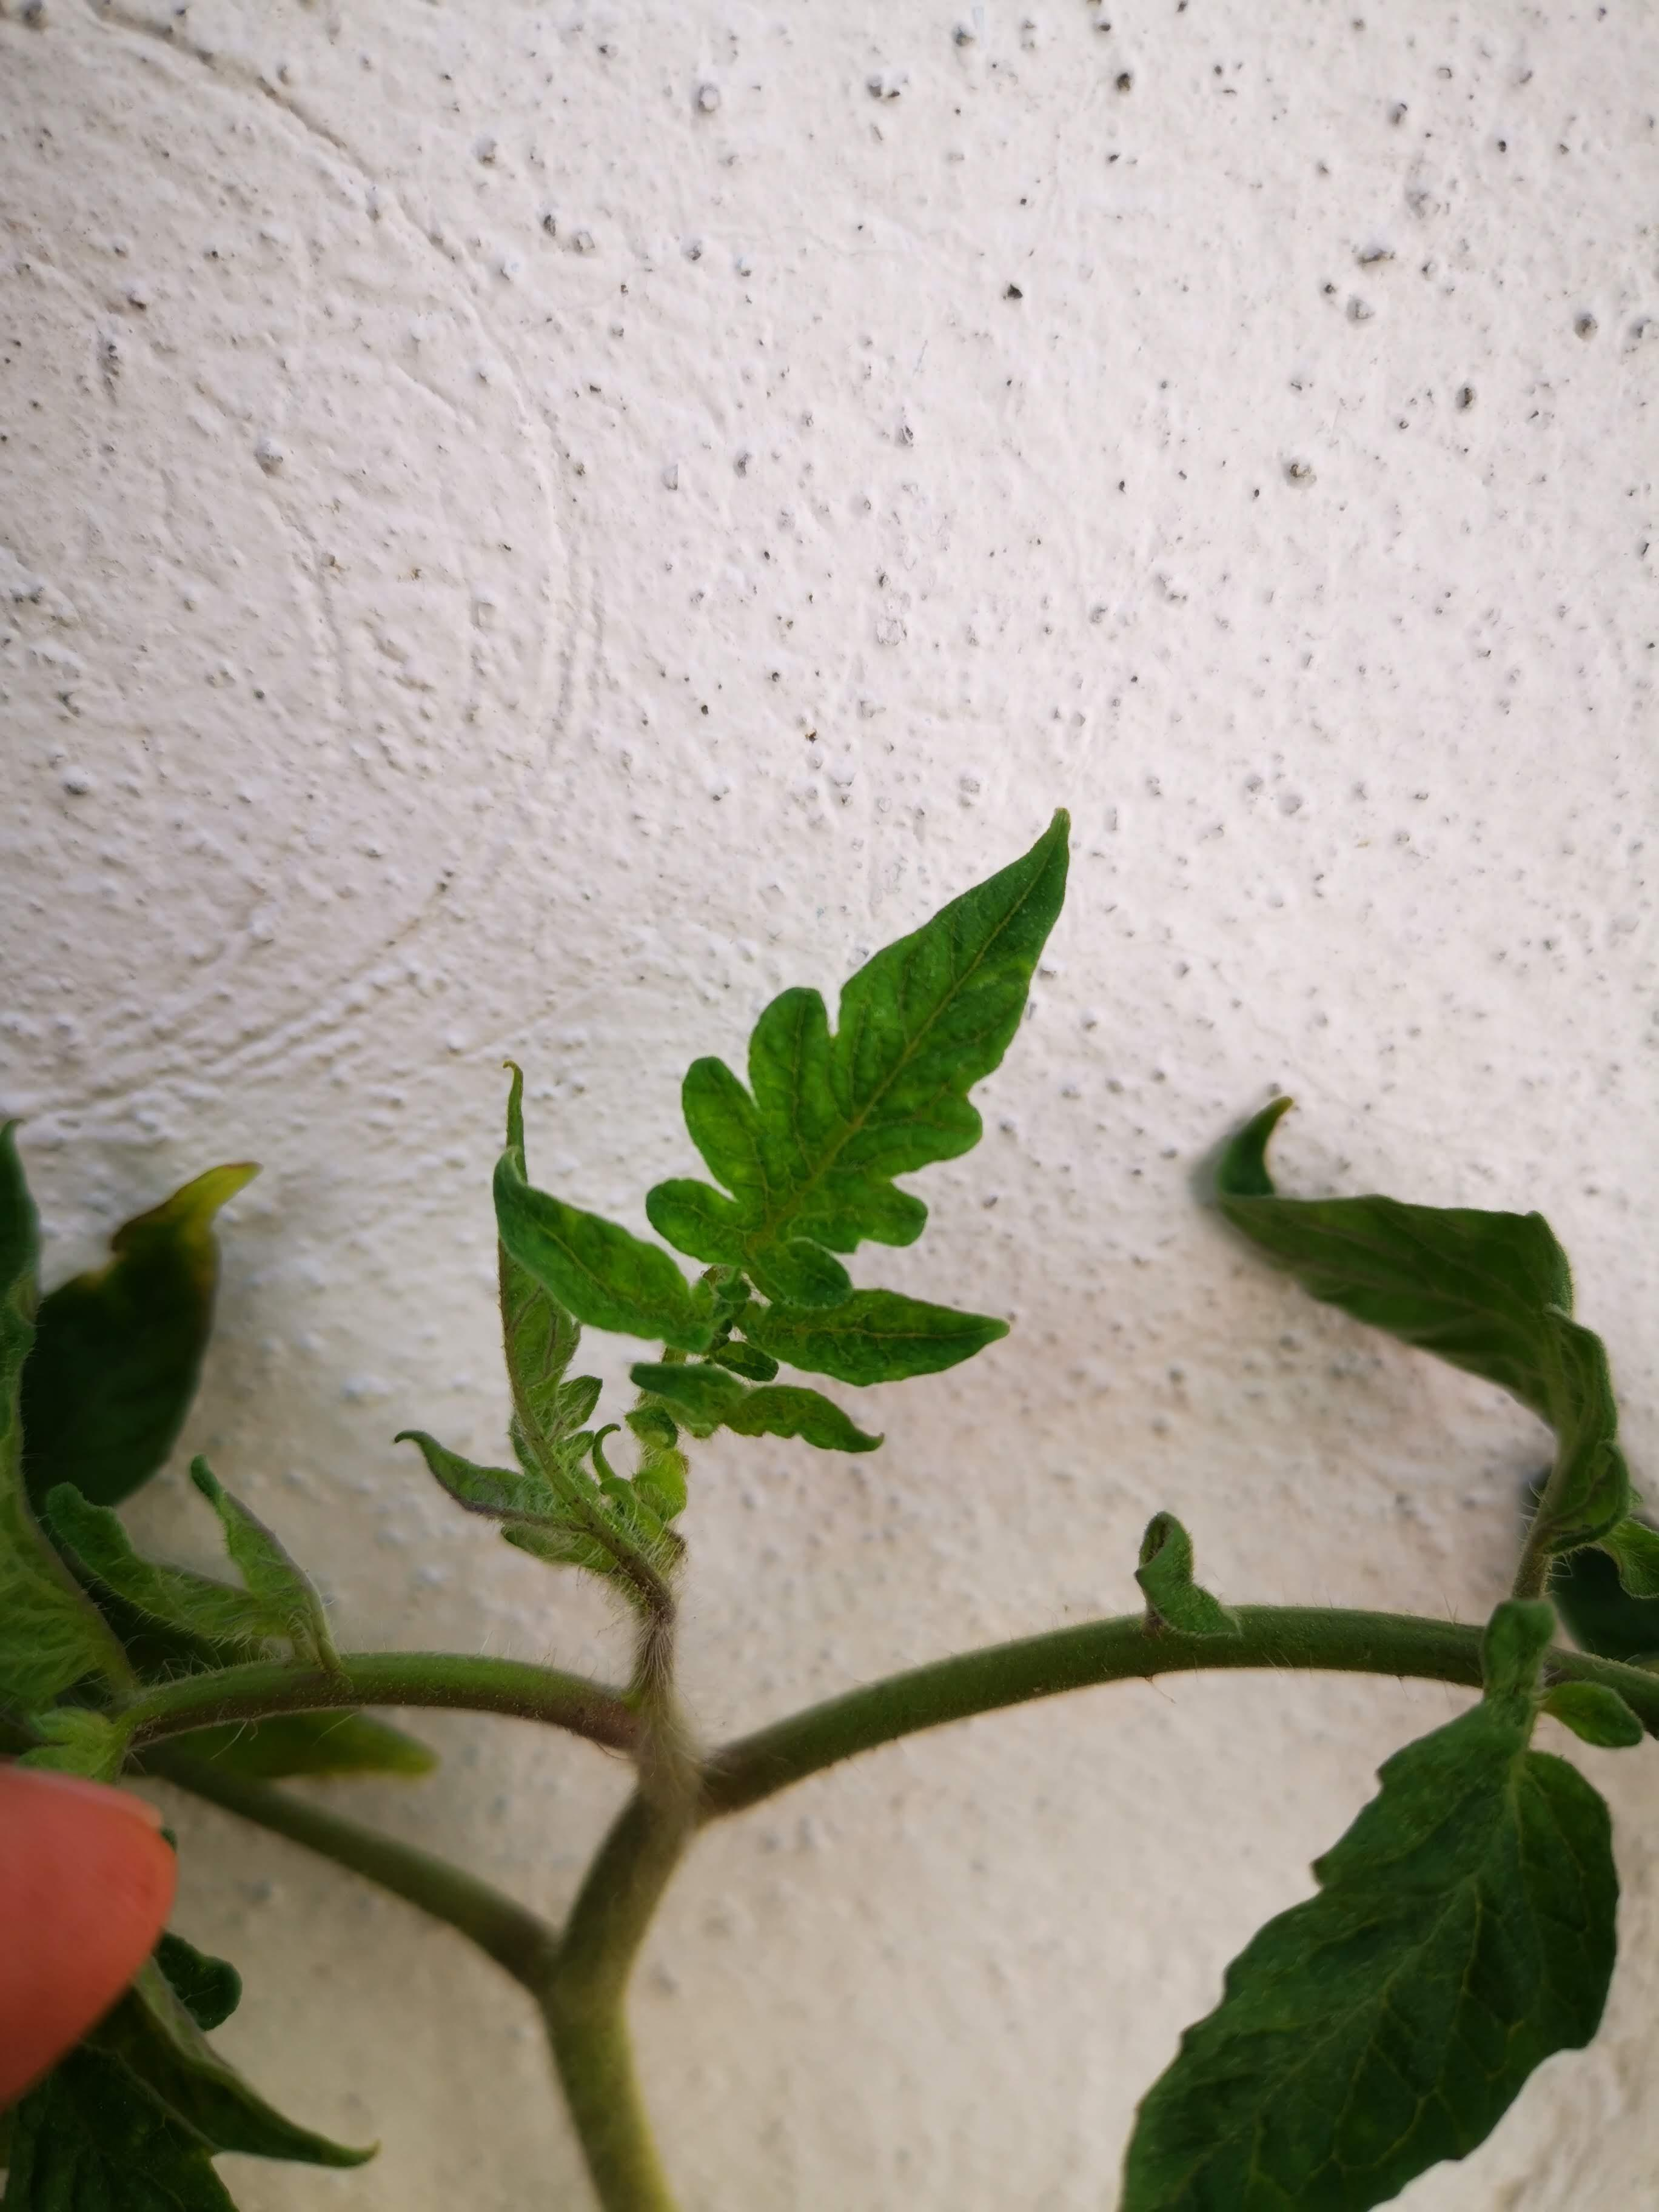Hoja: (1117, 1599, 1643, 2212), (491, 1144, 735, 1352), (734, 1287, 1007, 1388), (633, 1364, 880, 1453)
Hoja rugoso: (647, 806, 1070, 1312), (403, 1244, 687, 1602), (47, 1456, 342, 1672)
Pedunculo: (704, 1608, 1481, 1818), (129, 1655, 640, 1750), (631, 1575, 701, 1862)
